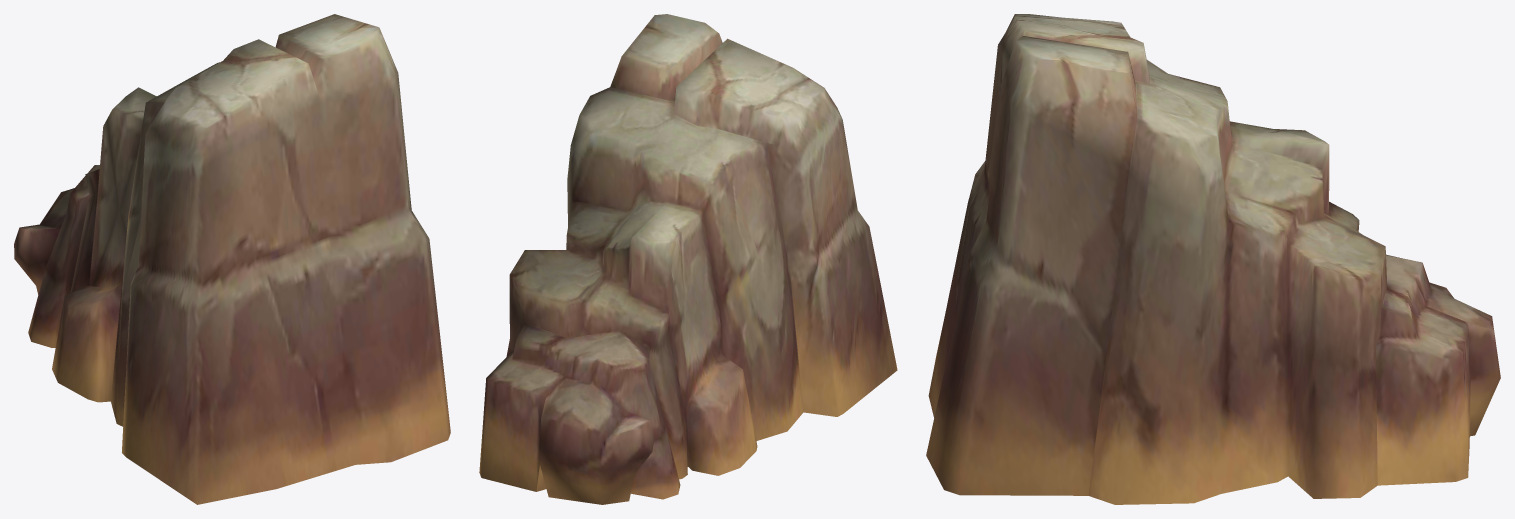
Rendered from h5_shamoshan_b.FBX.
The picture shows the model from 3 angles, left to right: view 1: azimuth 30°, elevation 25°; view 2: azimuth 150°, elevation 25°; view 3: azimuth 270°, elevation 25°; orthographic projection. The views are drawn at different scales.
Visible parts, largest first — view 1: h5_shamoshan_b; view 2: h5_shamoshan_b; view 3: h5_shamoshan_b.
Part boxes in pixels (x1,y1,x2,y2): h5_shamoshan_b: [14, 14, 450, 504]; h5_shamoshan_b: [479, 14, 897, 504]; h5_shamoshan_b: [926, 14, 1500, 504].
Size of the model in its own units: 11.84 by 15.21 by 18.95.
